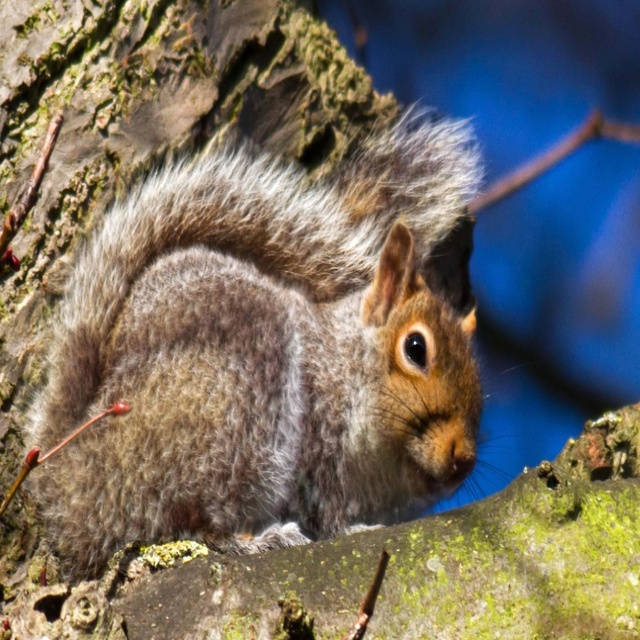Squirrel: (0, 92, 536, 577)
